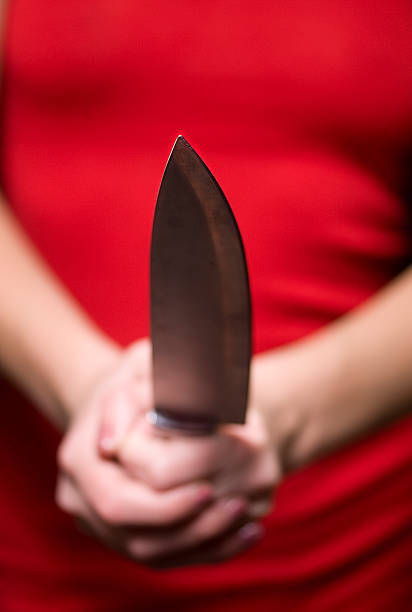knife: (145, 128, 256, 428)
